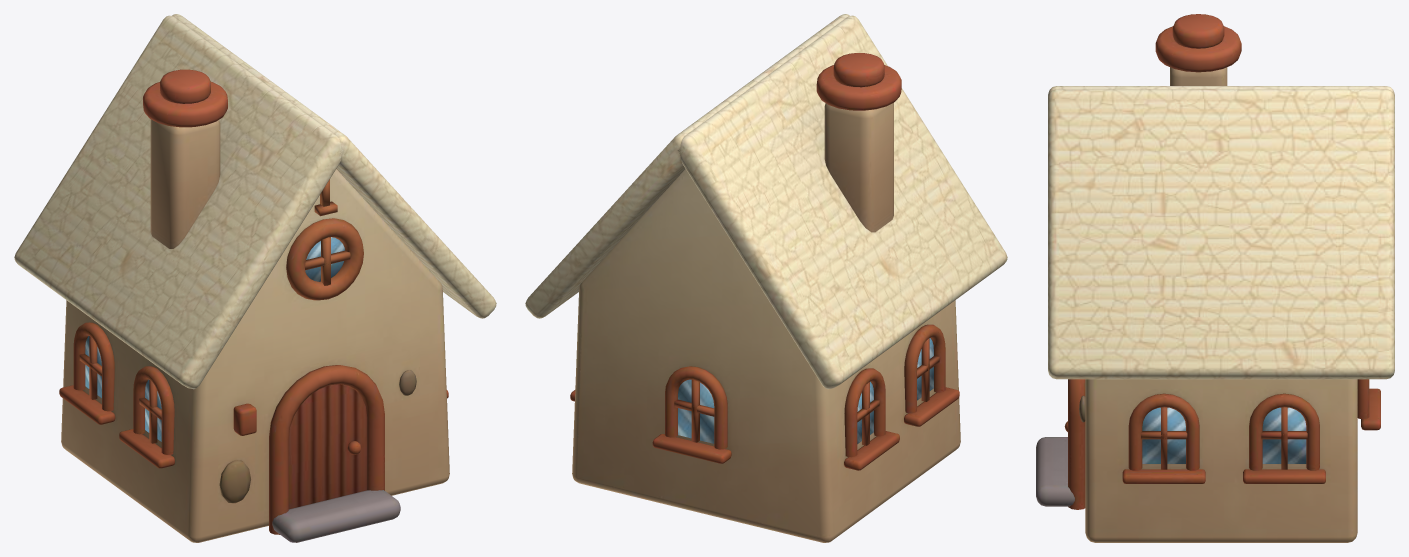
File: hut_high.glb
3 renders of one model, left to right at view 1: azimuth 30°, elevation 25°; view 2: azimuth 150°, elevation 25°; view 3: azimuth 270°, elevation 25°, orthographic.
Parts seen in each view (by area): view 1: hut; view 2: hut; view 3: hut.
Boxes of the visible parts, x1,y1,x2,y2 form: hut: (14,14,496,542); hut: (525,14,1007,542); hut: (1036,14,1394,542).
Size of the model in its own units: 1.28 by 1.61 by 1.25.
Materials: 1 (1 with a texture image).
